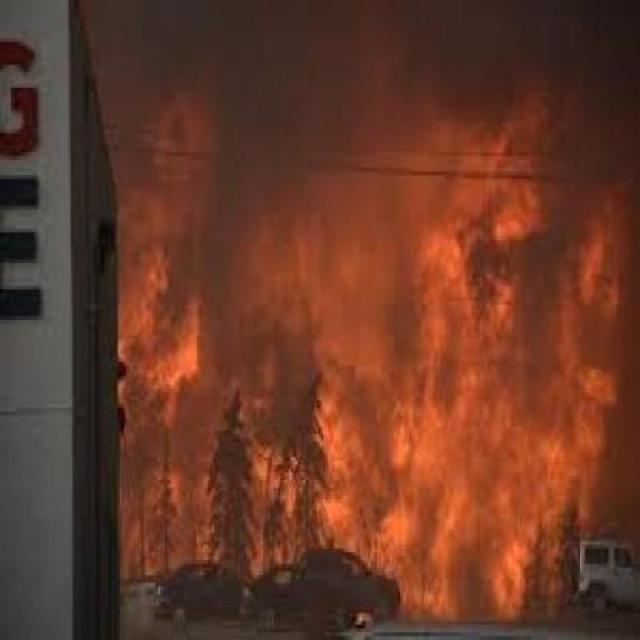Fire: (109, 156, 640, 638)
